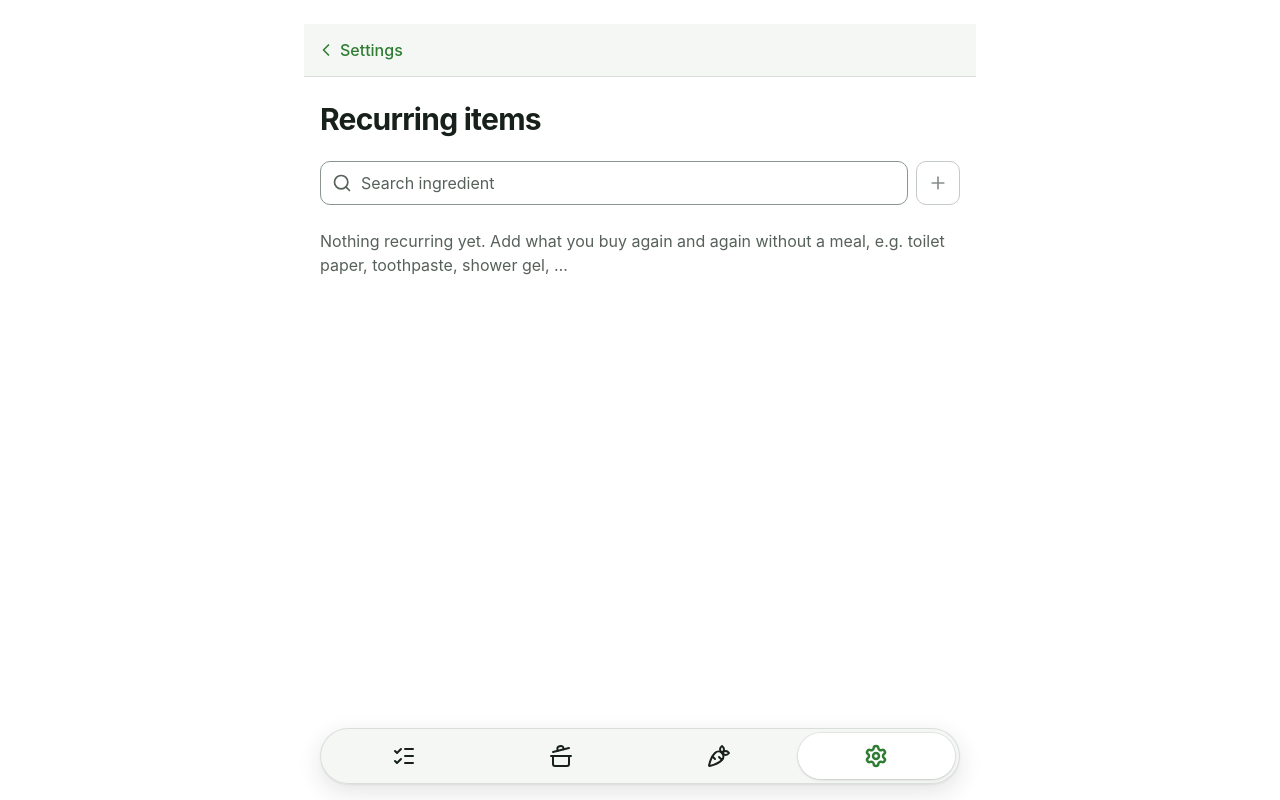
Scenario: the ingredient field on "Regelmäßige Artikel" (LIST-16, D-41, ING-04) › sends the weeks and the date as typed, and switches adapting off with a second request
Type "klo" into the search field labelled "Search ingredient". click: (614, 183)
box: [320,161,908,205]
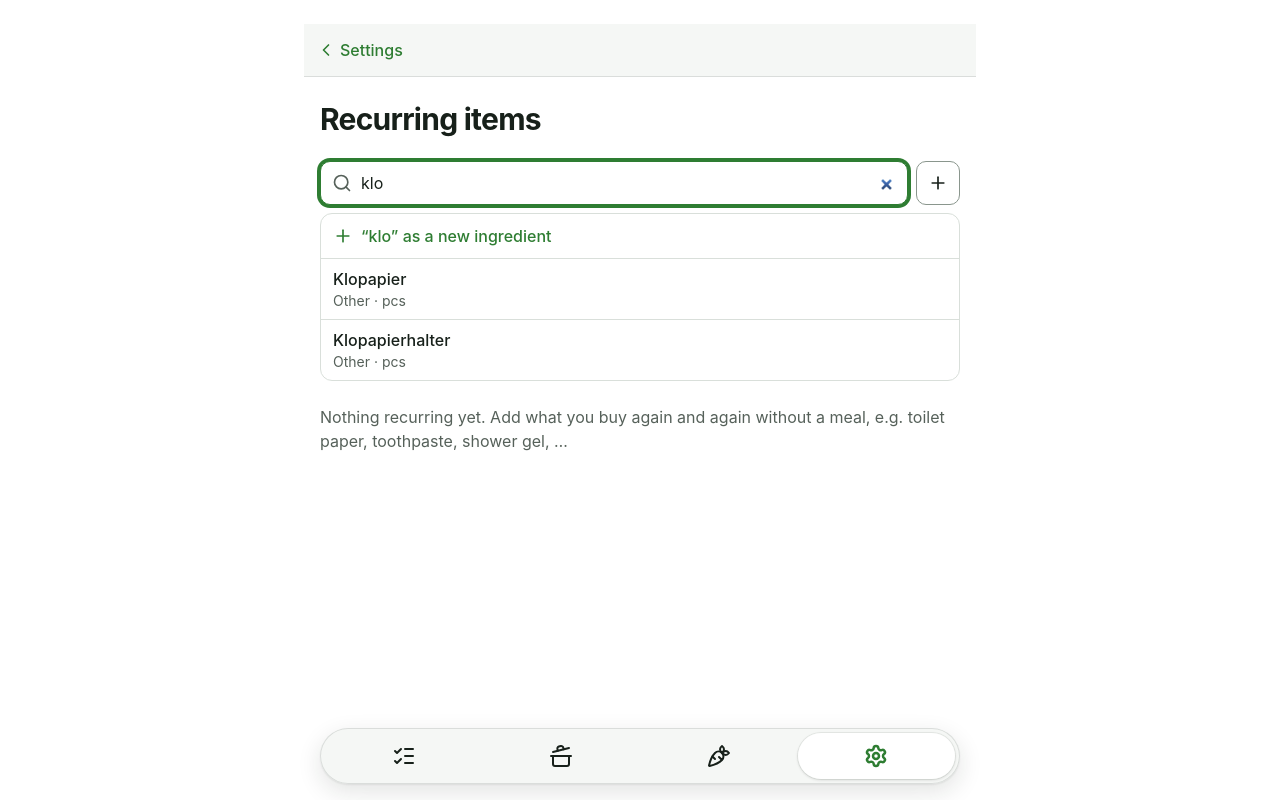
Click the button "Klopapier Other · pcs". click: (370, 279)
box: [321,259,959,319]
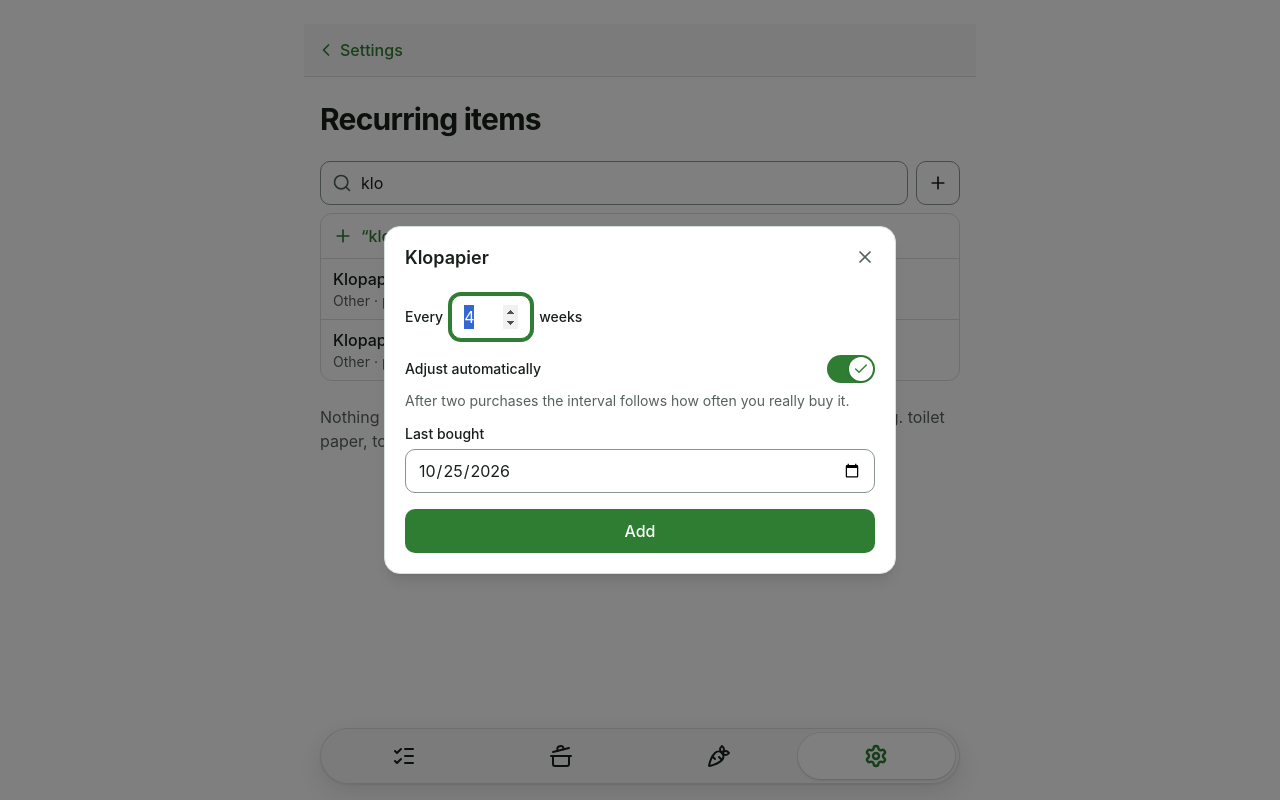
Replace the text in the number field labelled "Every weeks" with "6". click: (491, 317)
box: [451,295,531,339]
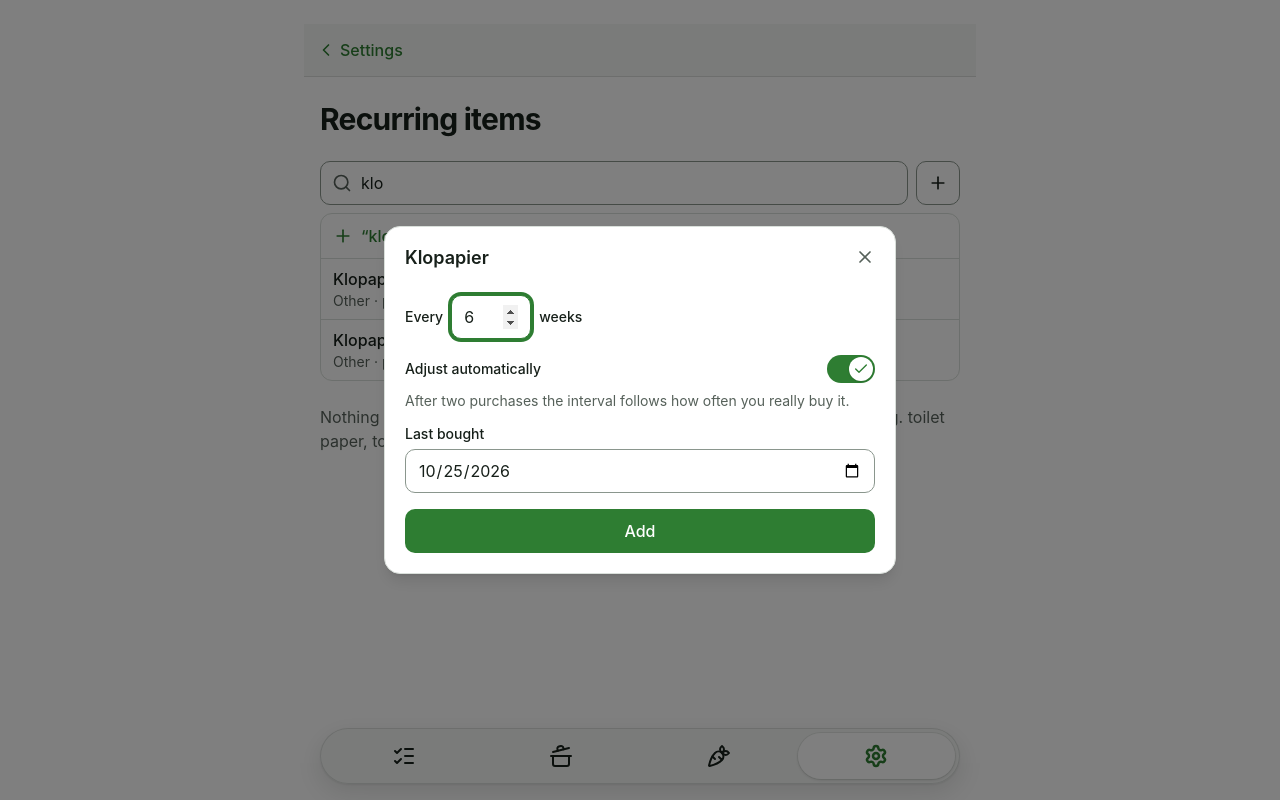
Result: the switch named "Adjust automatically" is checked
Note: …unless switched off.
Click the switch named "Adjust automatically". click: (851, 369)
box: [827,355,875,383]
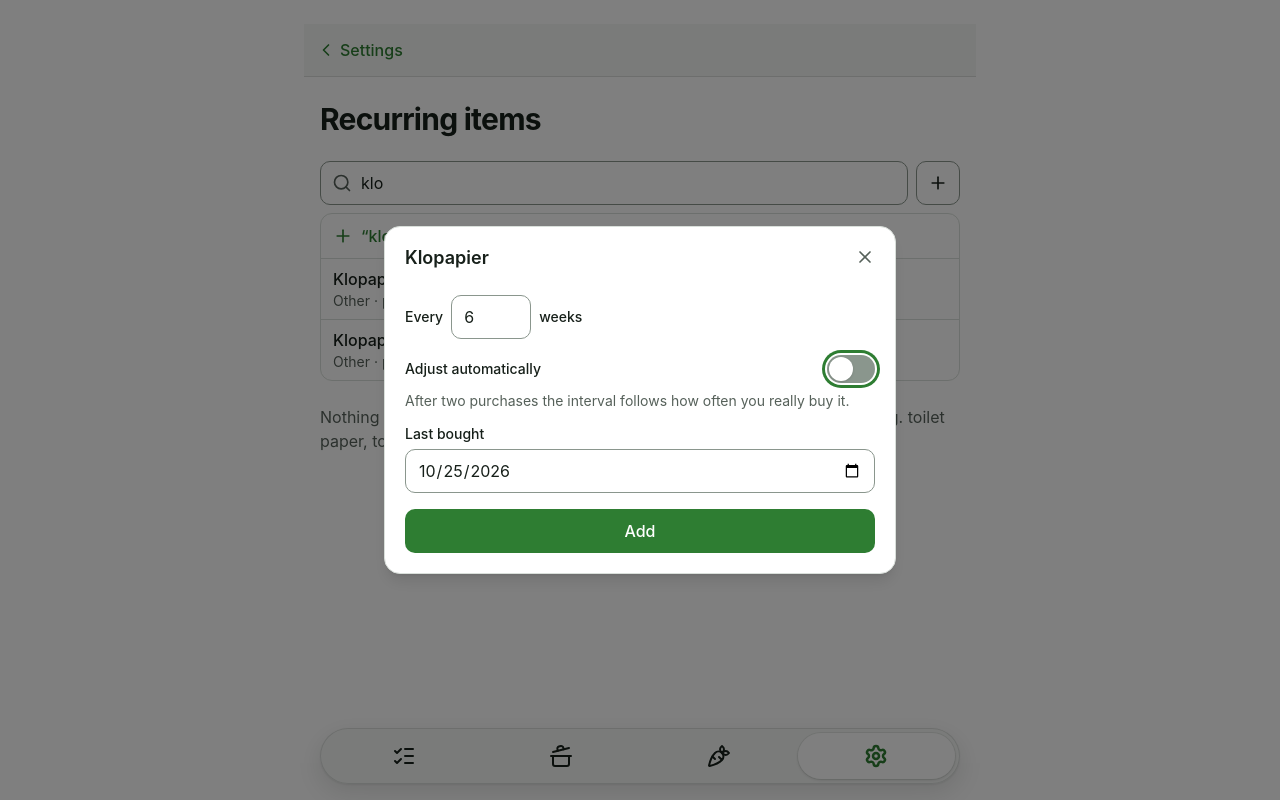
Type "2026-10-01" into the date field labelled "Last bought". click: (640, 471)
box: [405,449,875,493]
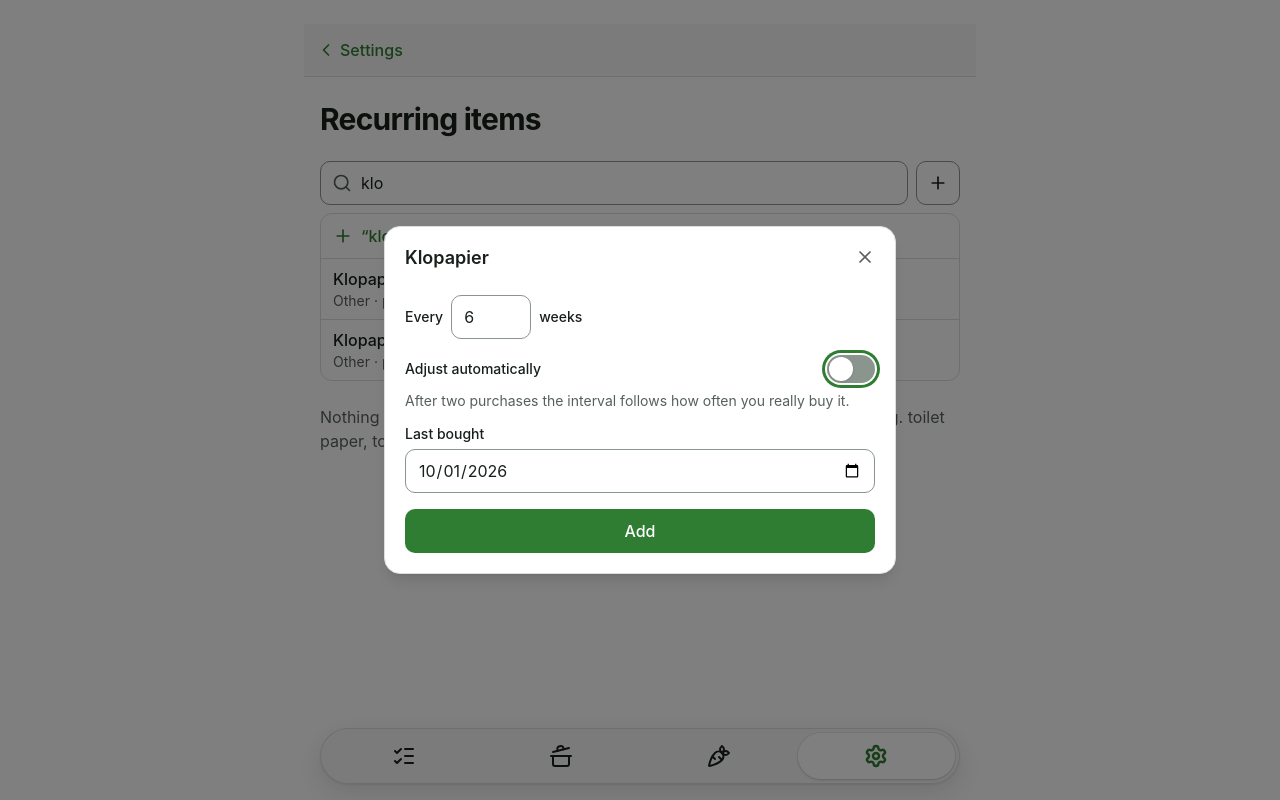
Click the button "Add". click: (640, 531)
box: [405,509,875,553]
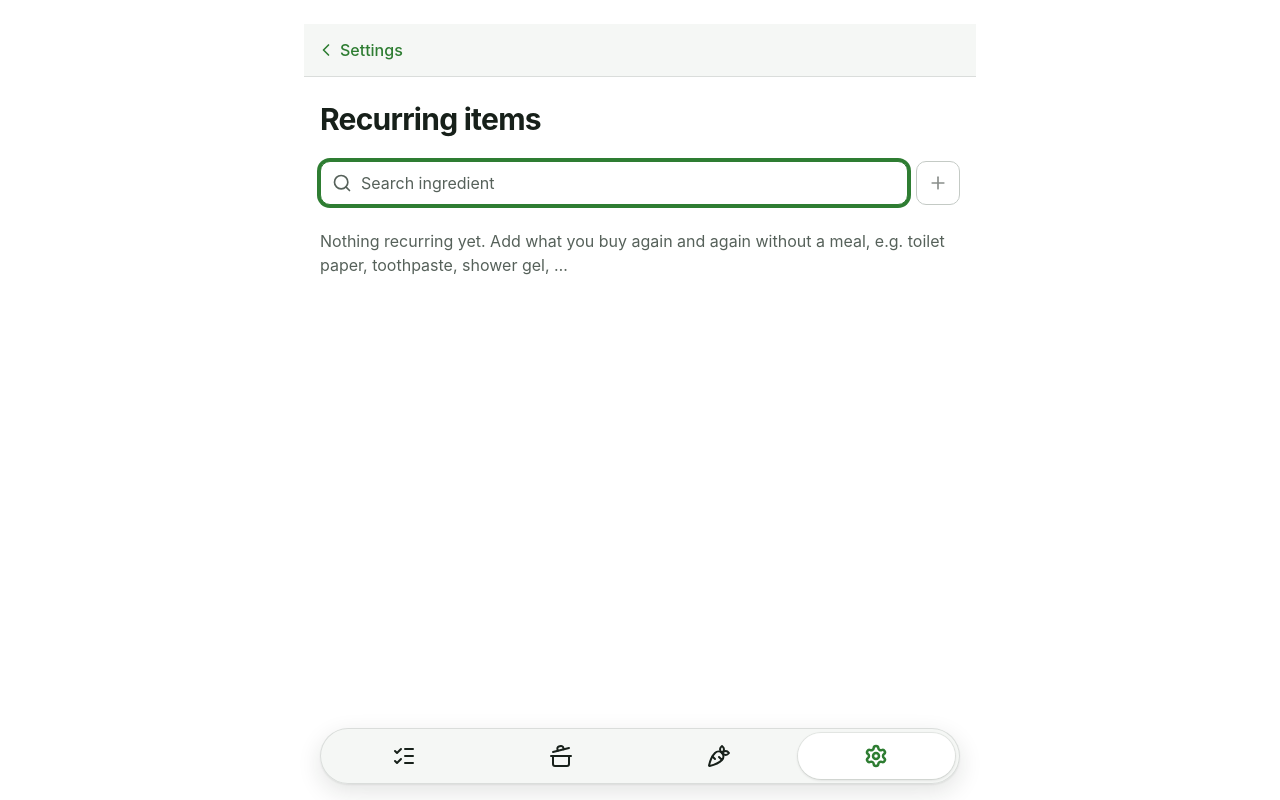
Result: the button "Klopapier" is gone
